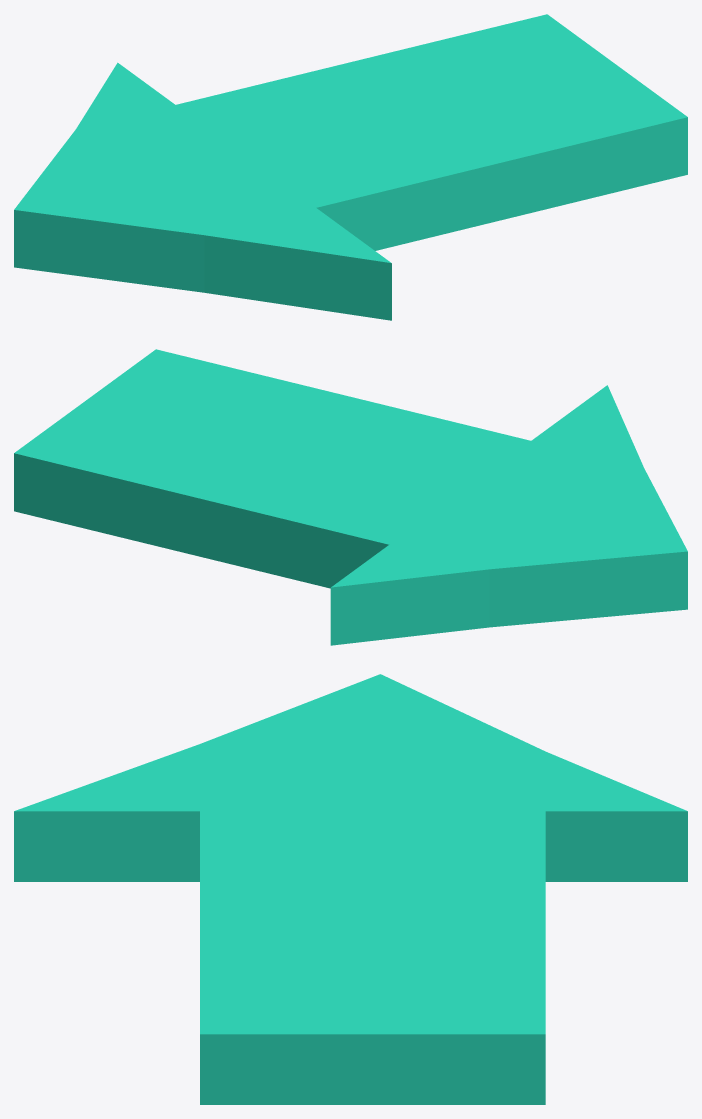
Rendered from flechaA.glb.
3 renders of one model, top to bottom at view 1: azimuth 30°, elevation 25°; view 2: azimuth 150°, elevation 25°; view 3: azimuth 270°, elevation 25°, orthographic. The views are drawn at different scales.
Parts seen in each view (by area): view 1: Plane; view 2: Plane; view 3: Plane.
Part boxes in pixels (x1,y1,x2,y2): Plane: (14, 14, 687, 320); Plane: (14, 349, 687, 645); Plane: (14, 674, 687, 1104).
Bounding box in the file's own units: 0.8537 × 0.0782 × 0.6752.
